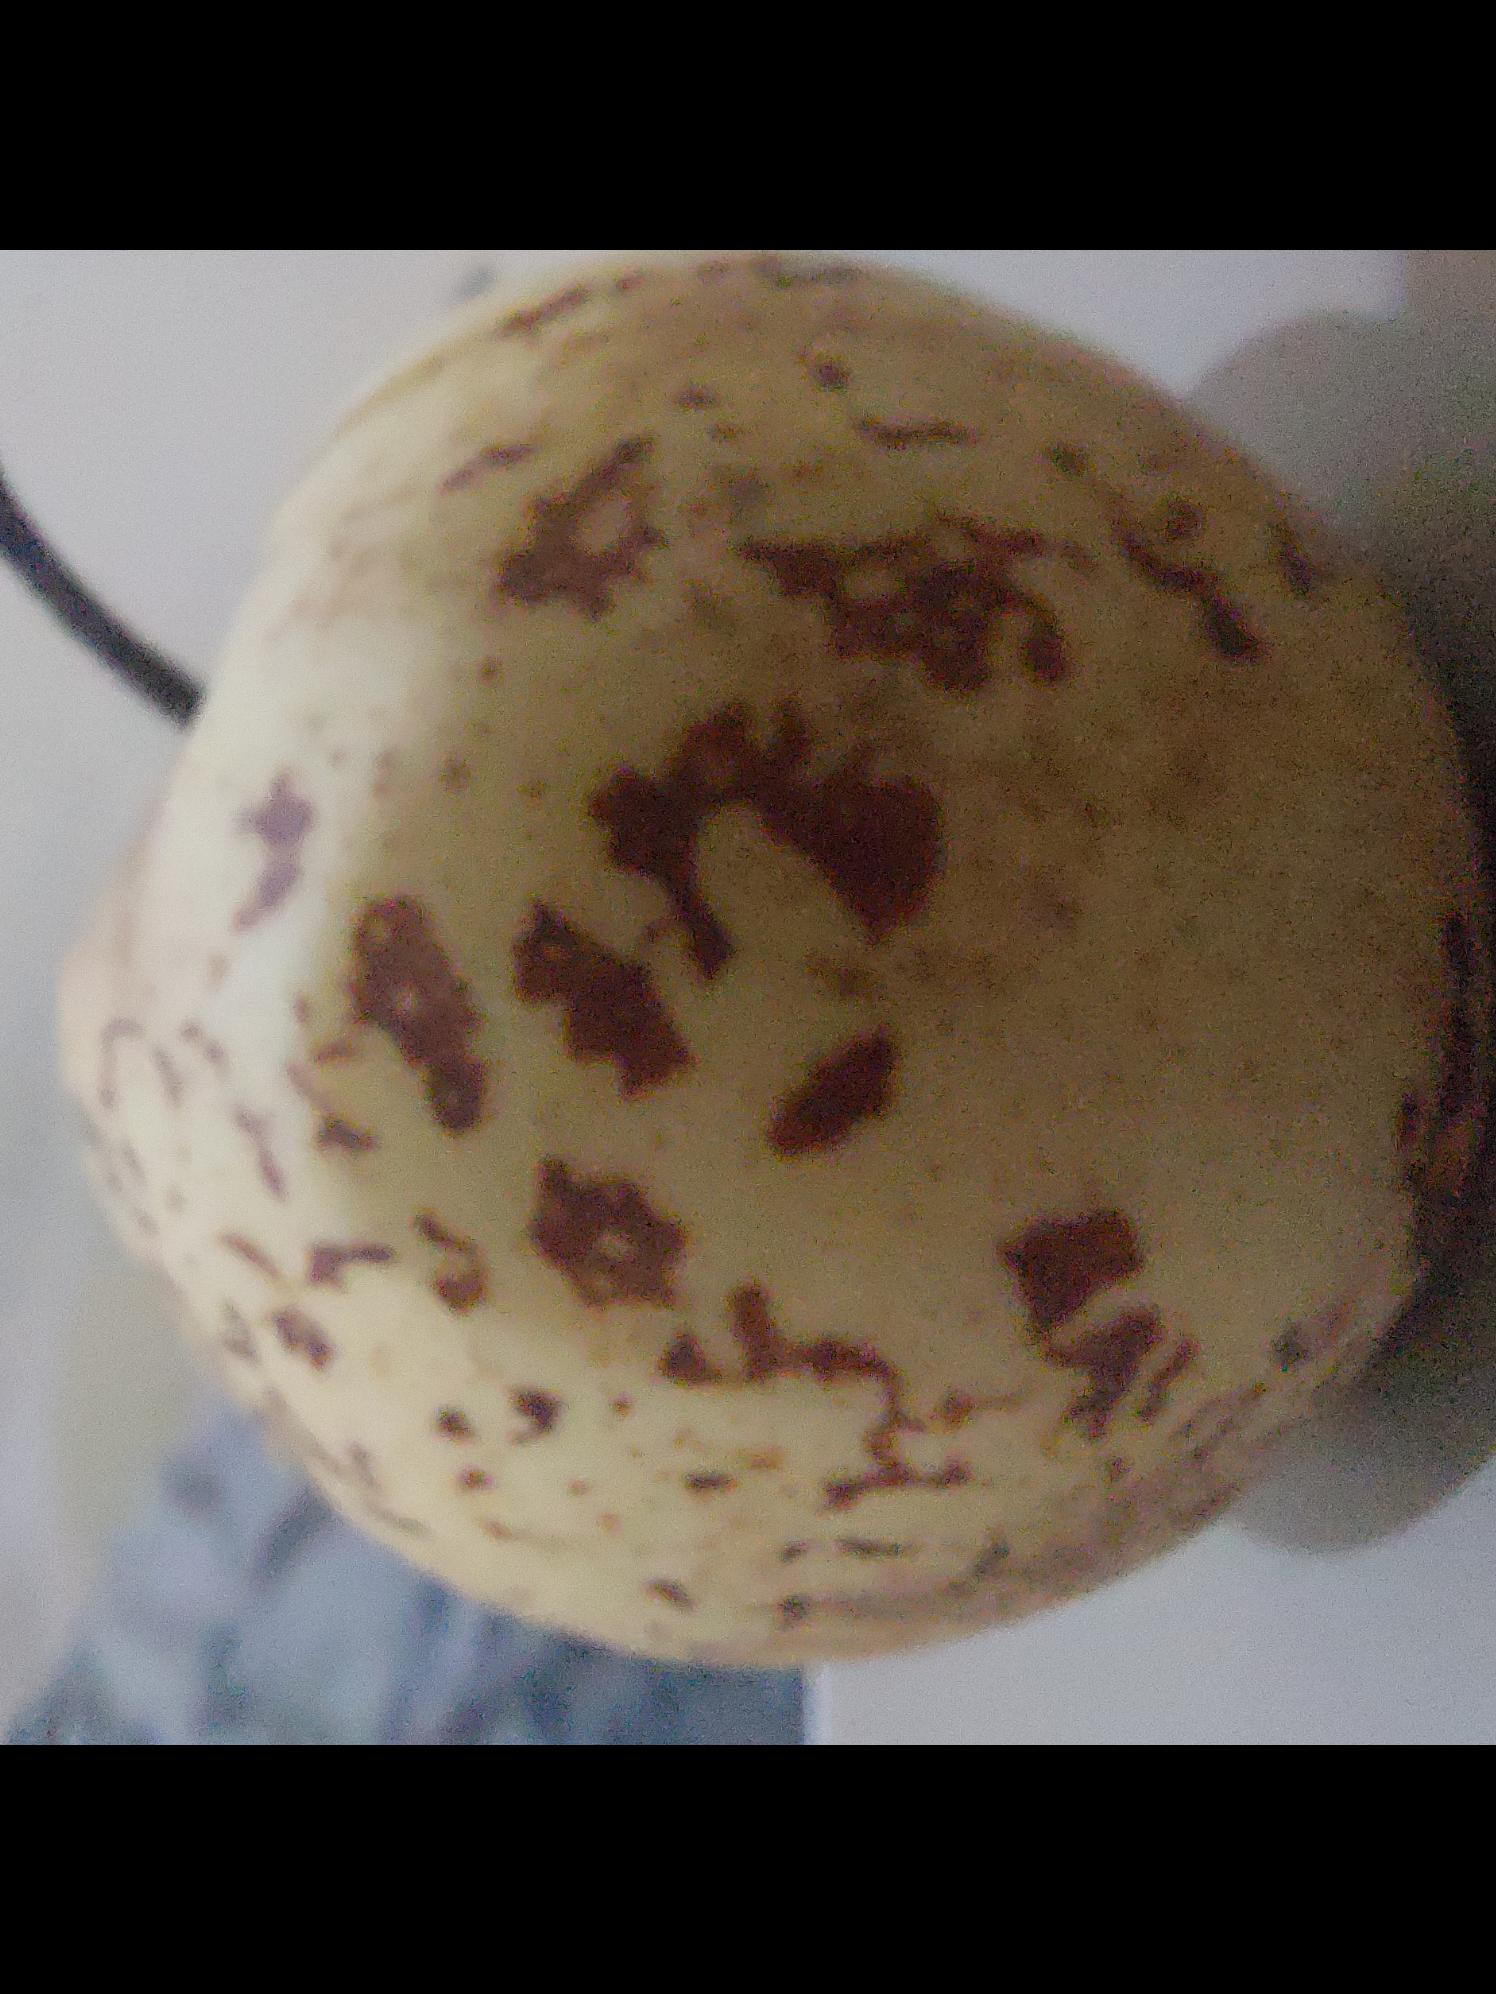Bad Pear: (0, 248, 1496, 1673)
